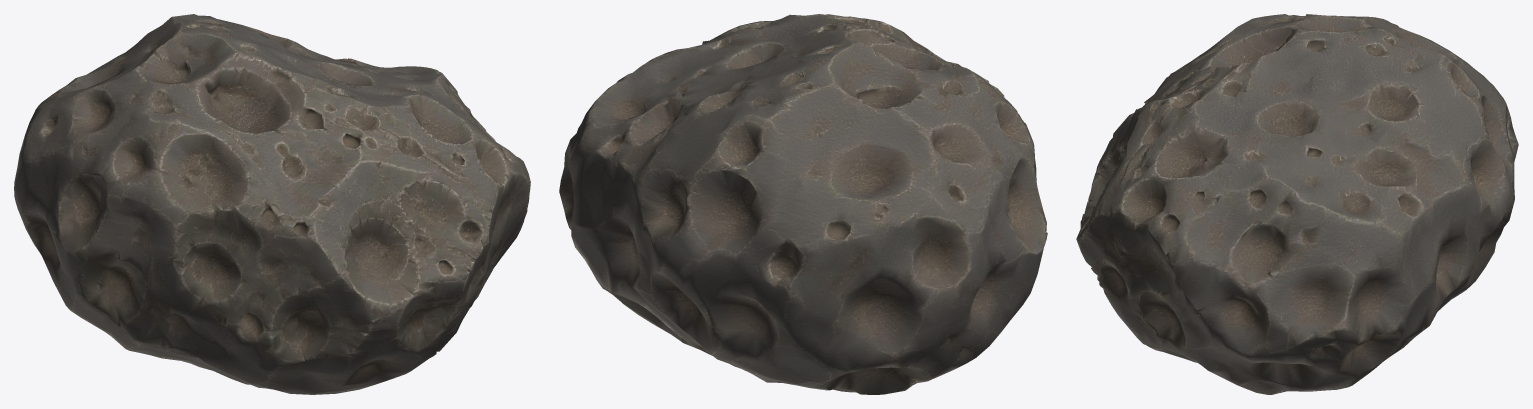
The model's file is runtime_high_02.glb.
3 renders of one model, left to right at view 1: azimuth 30°, elevation 25°; view 2: azimuth 150°, elevation 25°; view 3: azimuth 270°, elevation 25°, orthographic. The views are drawn at different scales.
Parts seen in each view (by area): view 1: tripo_node_baa1a6fc-96f7-40a5-a53a-be870e70b933; view 2: tripo_node_baa1a6fc-96f7-40a5-a53a-be870e70b933; view 3: tripo_node_baa1a6fc-96f7-40a5-a53a-be870e70b933.
Part boxes in pixels (bbox=[...]): tripo_node_baa1a6fc-96f7-40a5-a53a-be870e70b933: bbox=[14, 14, 530, 394]; tripo_node_baa1a6fc-96f7-40a5-a53a-be870e70b933: bbox=[559, 14, 1047, 394]; tripo_node_baa1a6fc-96f7-40a5-a53a-be870e70b933: bbox=[1076, 14, 1518, 394].
Size of the model in its own units: 0.9813 by 0.6827 by 0.898.
Materials: 1 (1 with a texture image).
